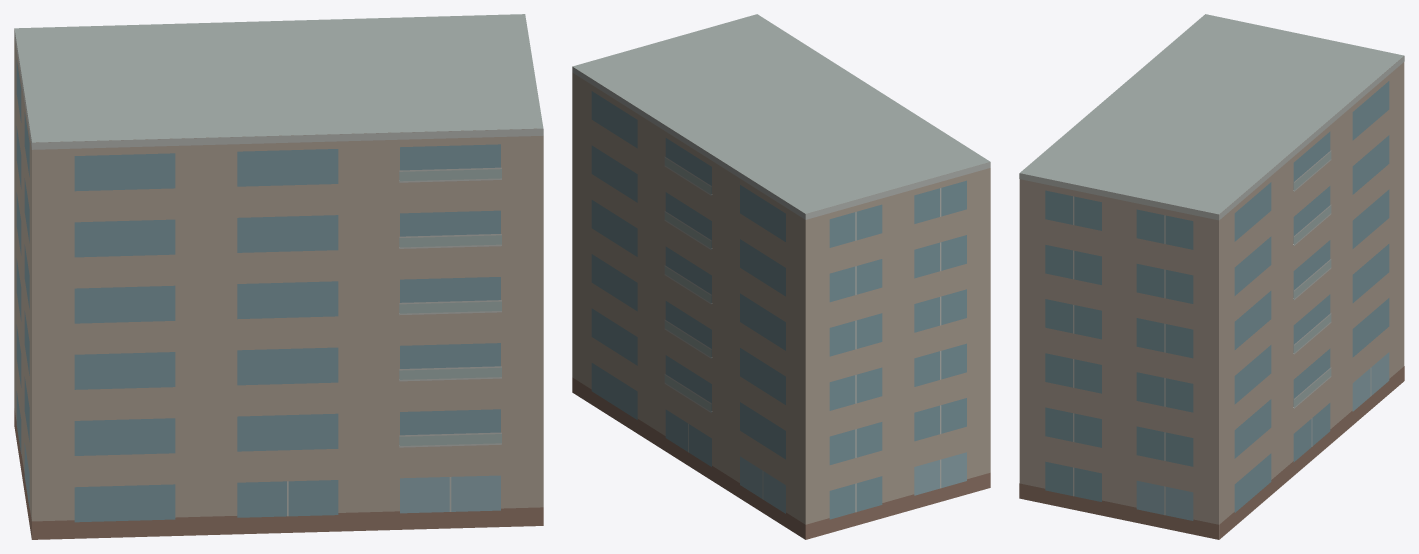
Rendered from survey-upis-32842919.glb.
The picture shows the model from 3 angles, left to right: view 1: azimuth 30°, elevation 25°; view 2: azimuth 150°, elevation 25°; view 3: azimuth 270°, elevation 25°; orthographic projection. The views are drawn at different scales.
Visible parts, largest first — view 1: survey-upis-32842919.tmp; view 2: survey-upis-32842919.tmp; view 3: survey-upis-32842919.tmp.
Boxes of the visible parts, x1,y1,x2,y2 form: survey-upis-32842919.tmp: (14, 14, 543, 539); survey-upis-32842919.tmp: (572, 14, 990, 539); survey-upis-32842919.tmp: (1019, 14, 1404, 539).
Bounding box in the file's own units: 17.58 × 13.3 × 14.27.
